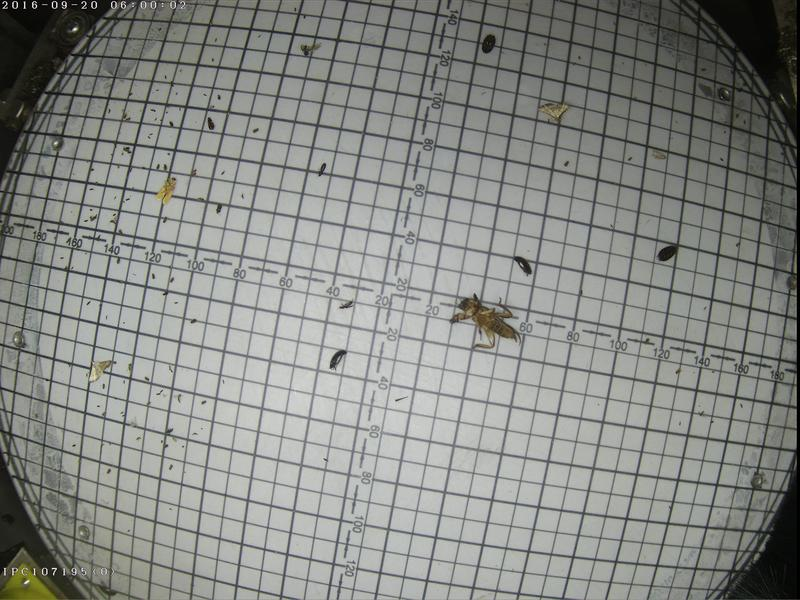Gryllotalpa orientalis: (445, 289, 521, 349)
Rice Leaf Roller: (531, 97, 569, 126), (86, 357, 110, 381)
